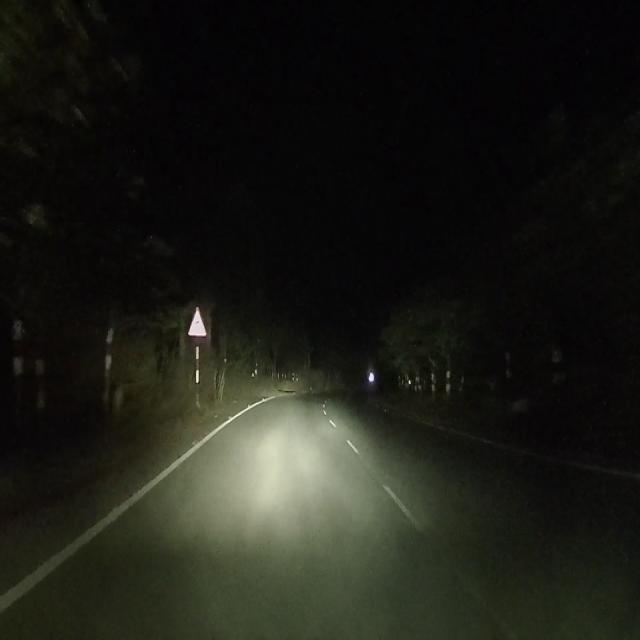right-hand-curve: (186, 308, 208, 340)
